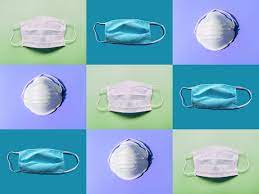FaceMask: (9, 16, 76, 48), (97, 81, 164, 113), (184, 147, 249, 178), (180, 83, 252, 110), (94, 19, 167, 45), (8, 148, 79, 174)
